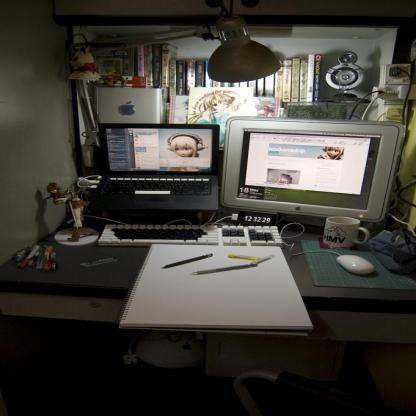board: (92, 116, 217, 208)
